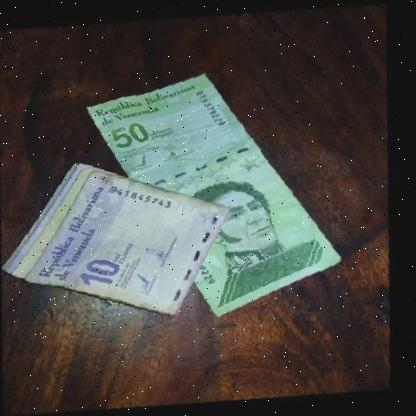vef_front: (73, 54, 360, 334)
